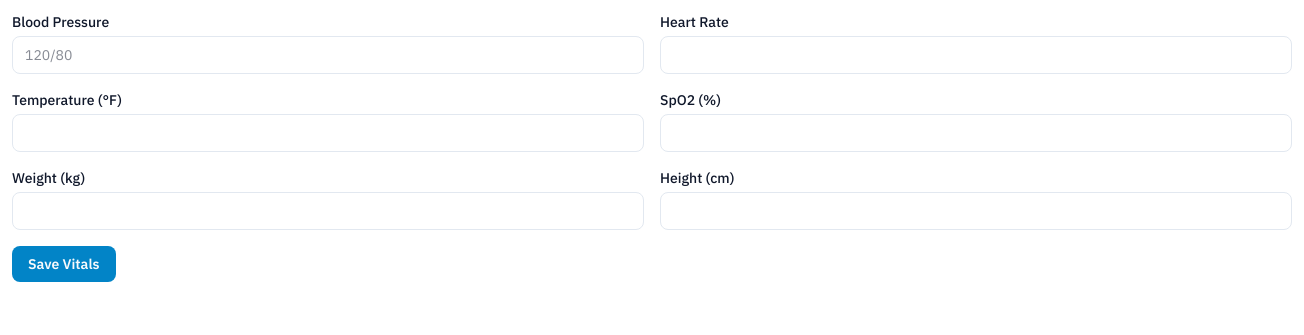
Test: VitalsForm › calculates and displays BMI from weight and height
Type "70" into the number field labelled "Weight (kg)" at (328, 211), box 12,192 -> 644,230
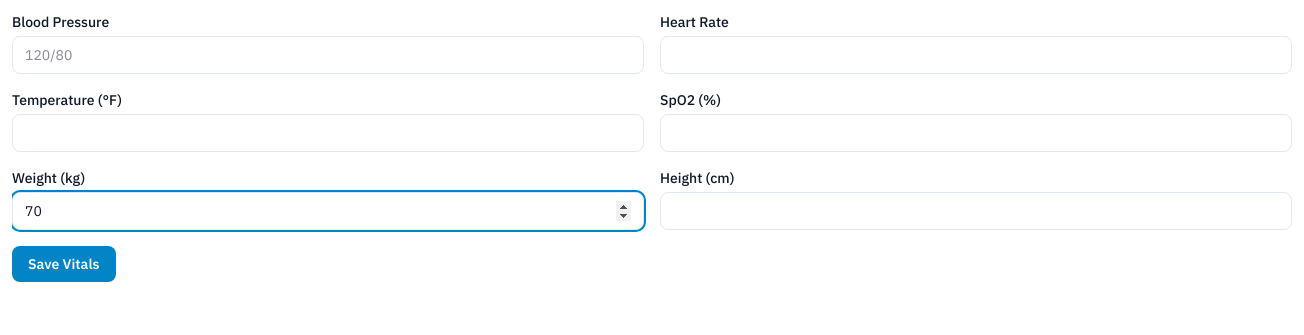
Type "175" into the number field labelled "Height (cm)" at (976, 211), box 660,192 -> 1292,230
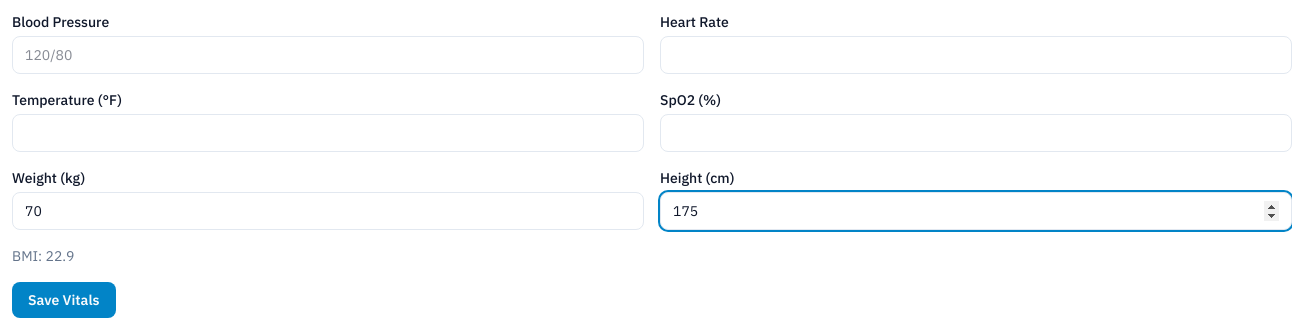
Expected: the text "BMI: 22.9" is shown, 12,247 -> 74,265
